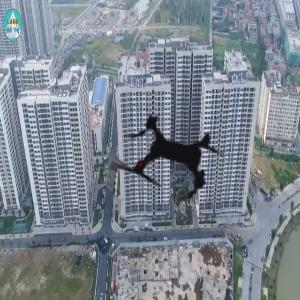drone: (85, 76, 255, 246)
